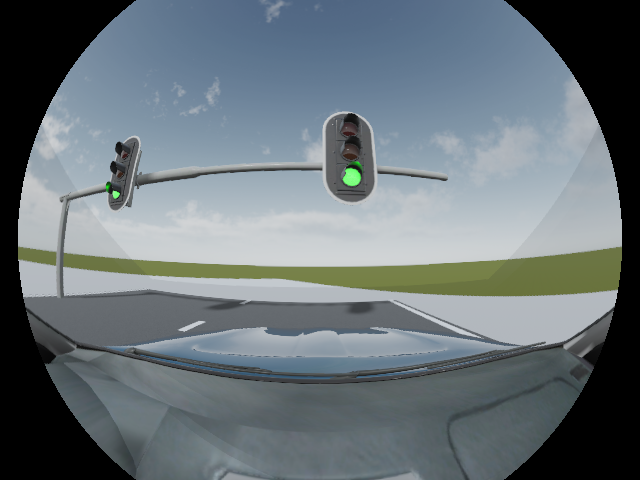Green Light: (326, 114, 376, 205)
